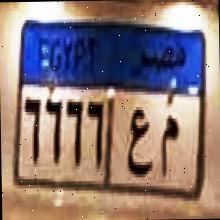6: (86, 100, 107, 170), (46, 95, 64, 166), (66, 98, 84, 168), (25, 97, 43, 166)
ain: (126, 105, 152, 174)
meem: (158, 113, 179, 175)
